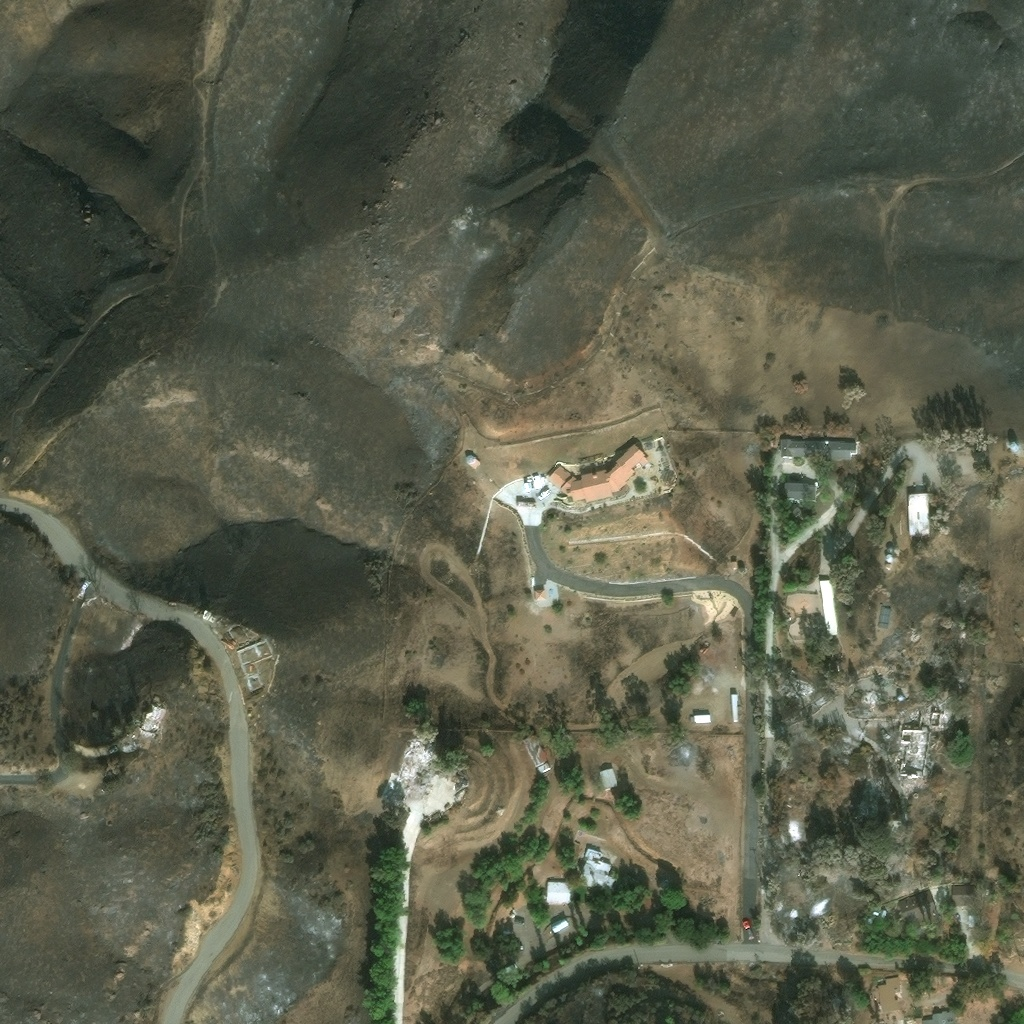0 no-damage: (546, 442, 650, 501), (778, 436, 860, 459), (577, 846, 615, 890), (895, 888, 939, 926), (818, 577, 838, 635), (906, 491, 930, 536), (782, 481, 815, 501), (546, 879, 570, 903), (597, 766, 619, 791), (951, 883, 978, 903), (921, 1008, 957, 1023), (829, 996, 848, 1017), (547, 916, 569, 934), (882, 545, 894, 570), (877, 605, 890, 628), (788, 503, 802, 516), (532, 587, 545, 600), (731, 693, 737, 721), (464, 453, 477, 465), (692, 713, 709, 722), (1006, 440, 1017, 451), (774, 588, 781, 603), (790, 973, 799, 980), (548, 908, 556, 915)
1 minor-damage: (522, 729, 550, 772)
2 major-damage: (893, 693, 953, 777), (864, 778, 885, 798), (862, 689, 893, 702), (895, 693, 904, 702)
3 destroyed: (386, 732, 433, 804), (137, 703, 165, 736), (122, 743, 134, 752)
